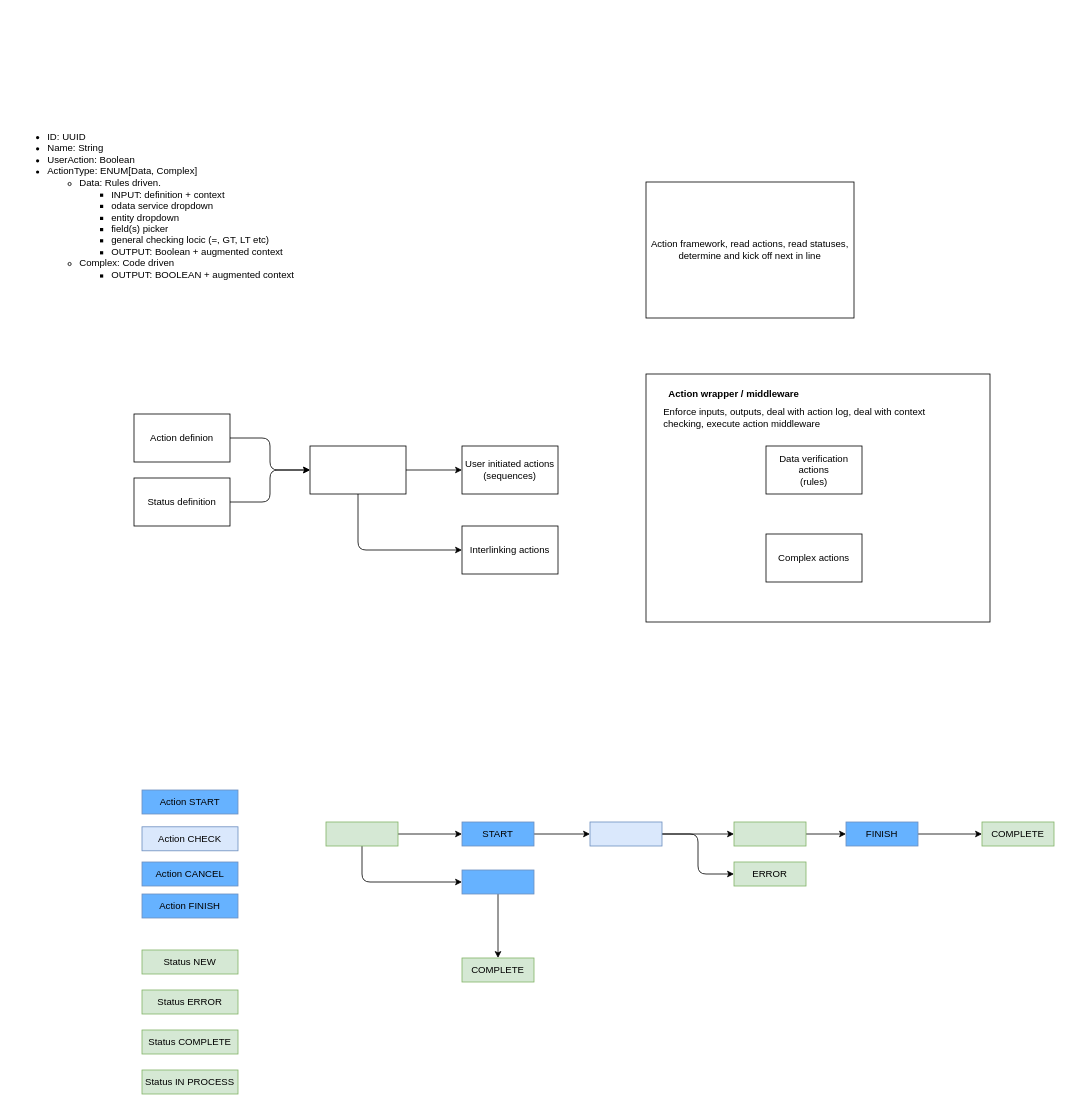
The diagram is 1068 pixels wide and 1108 high, and some of its shapes have lost their labels. Here are the shapes that lost their labels. From the top down, the centre of each, then its label:
point 357,469: ActionStatus (action matrix)
point 361,833: NEW
point 625,833: CHECK
point 769,833: IN PROCESS
point 497,881: CANCEL
